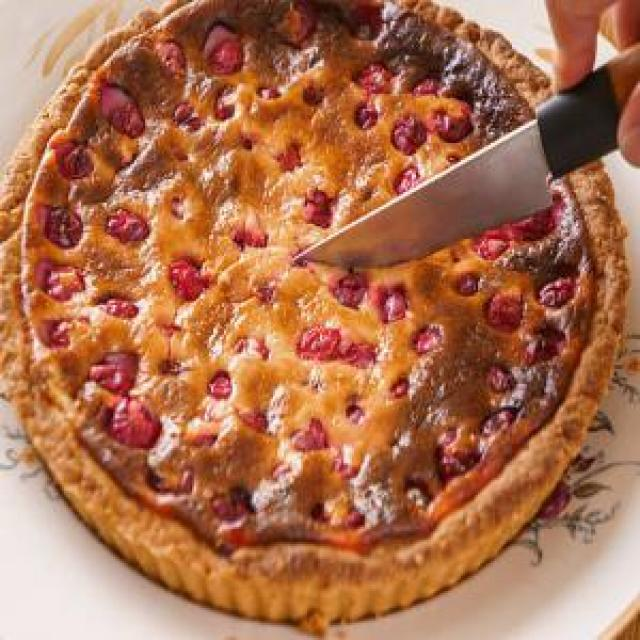knife: (296, 40, 638, 271)
